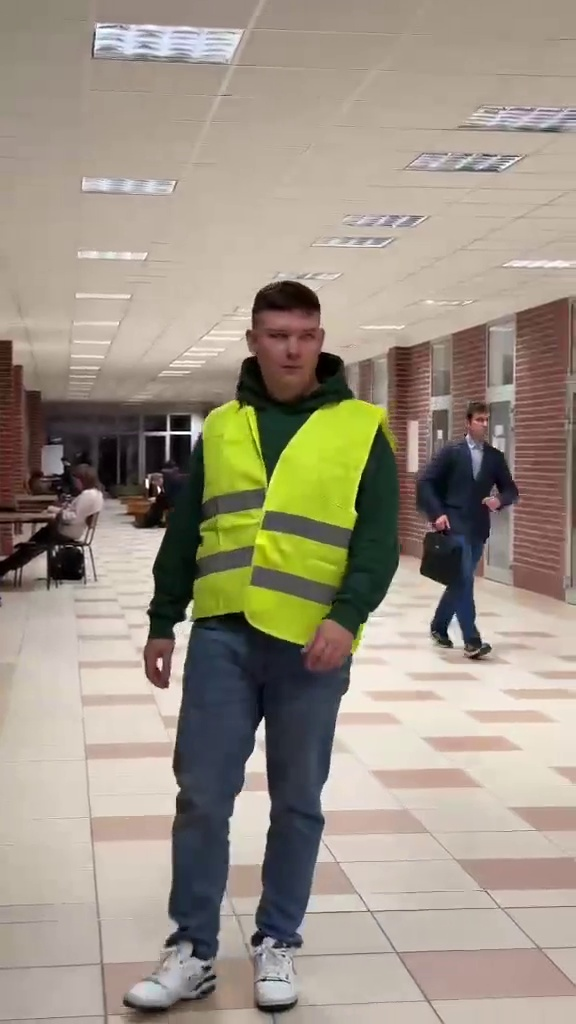no vest: (412, 398, 518, 658), (4, 468, 101, 583)
vest: (142, 274, 399, 1009)
